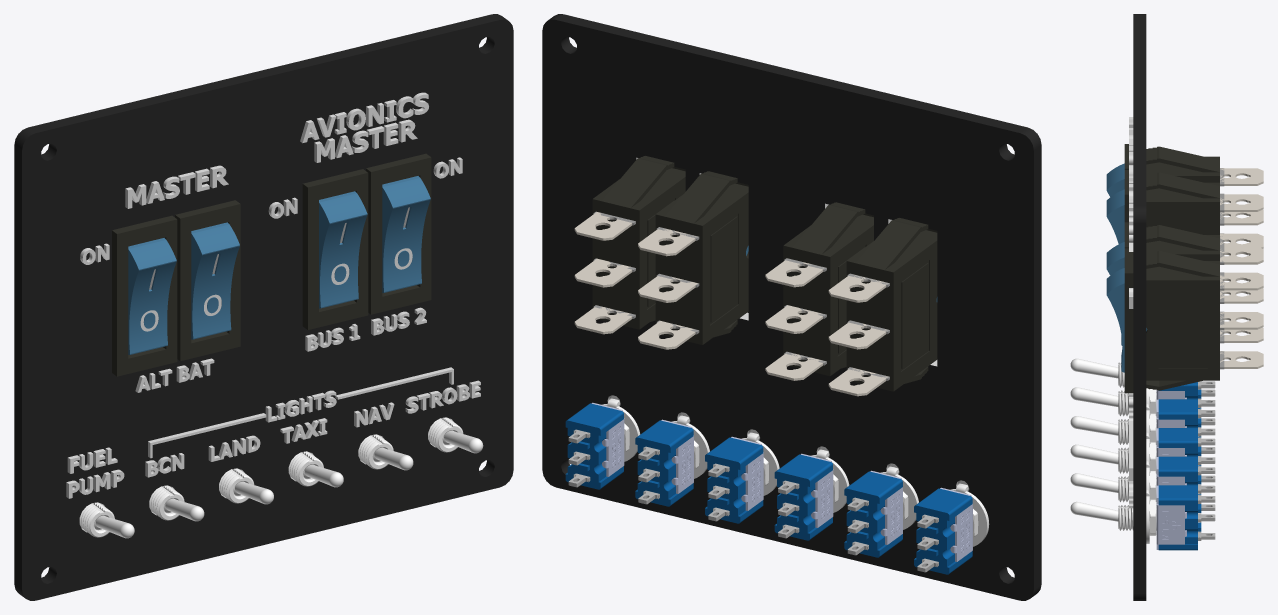
File: elolap.glb
The picture shows the model from 3 angles, left to right: view 1: azimuth 30°, elevation 25°; view 2: azimuth 150°, elevation 25°; view 3: azimuth 270°, elevation 25°; orthographic projection. The views are drawn at different scales.
Parts seen in each view (by area): view 1: Solid1, Solid1.038, Solid1.032, Solid1.034, Solid1.036, Solid1.035, Solid1.031, Solid1.033, Solid1.037, Solid1.001, Solid1.016, Solid1.021 (+3 smaller); view 2: Solid1, Solid1.038, Solid1.032, Solid1.034, Solid1.036, Solid2.023, Solid2.015, Solid2.007, Solid2.011, Solid2.019, Solid2.003, Solid6.002 (+17 smaller); view 3: Solid1.034, Solid1, Solid1.036, Solid1.032, Solid1.038, Solid2.023, Solid1.030, Solid2.019, Solid2.011, Solid1.033, Solid2.015, Solid1.035 (+28 smaller).
Part boxes in pixels (x1=…): Solid1: x1=14, y1=14, x2=513, y2=600; Solid1.038: x1=302, y1=169, x2=368, y2=329; Solid1.032: x1=112, y1=215, x2=177, y2=376; Solid1.034: x1=366, y1=153, x2=431, y2=314; Solid1.036: x1=175, y1=200, x2=240, y2=361; Solid1.035: x1=191, y1=222, x2=239, y2=339; Solid1.031: x1=128, y1=238, x2=176, y2=354; Solid1.033: x1=382, y1=176, x2=430, y2=292; Solid1.037: x1=319, y1=191, x2=367, y2=308; Solid1.001: x1=79, y1=502, x2=114, y2=537; Solid1.016: x1=288, y1=451, x2=323, y2=486; Solid1.021: x1=358, y1=434, x2=393, y2=469; Solid1: x1=542, y1=14, x2=1041, y2=600; Solid1.038: x1=655, y1=171, x2=748, y2=344; Solid1.032: x1=846, y1=218, x2=937, y2=391; Solid1.034: x1=592, y1=156, x2=685, y2=329; Solid1.036: x1=783, y1=202, x2=873, y2=375; Solid2.023: x1=565, y1=403, x2=623, y2=489; Solid2.015: x1=705, y1=437, x2=763, y2=523; Solid2.007: x1=844, y1=471, x2=902, y2=557; Solid2.011: x1=774, y1=454, x2=832, y2=540; Solid2.019: x1=635, y1=420, x2=693, y2=506; Solid2.003: x1=914, y1=488, x2=972, y2=574; Solid6.002: x1=765, y1=305, x2=823, y2=333; Solid1.034: x1=1124, y1=248, x2=1219, y2=393; Solid1: x1=1129, y1=14, x2=1146, y2=600; Solid1.036: x1=1124, y1=170, x2=1219, y2=234; Solid1.032: x1=1124, y1=144, x2=1219, y2=182; Solid1.038: x1=1124, y1=222, x2=1219, y2=260; Solid2.023: x1=1158, y1=485, x2=1201, y2=550; Solid1.030: x1=1156, y1=485, x2=1186, y2=549; Solid2.019: x1=1158, y1=456, x2=1201, y2=494; Solid2.011: x1=1158, y1=399, x2=1201, y2=437; Solid1.033: x1=1106, y1=268, x2=1147, y2=372; Solid2.015: x1=1158, y1=428, x2=1201, y2=466; Solid1.035: x1=1106, y1=189, x2=1124, y2=243.
Bounding box in the file's own units: 0.11 × 0.1 × 0.0444.
